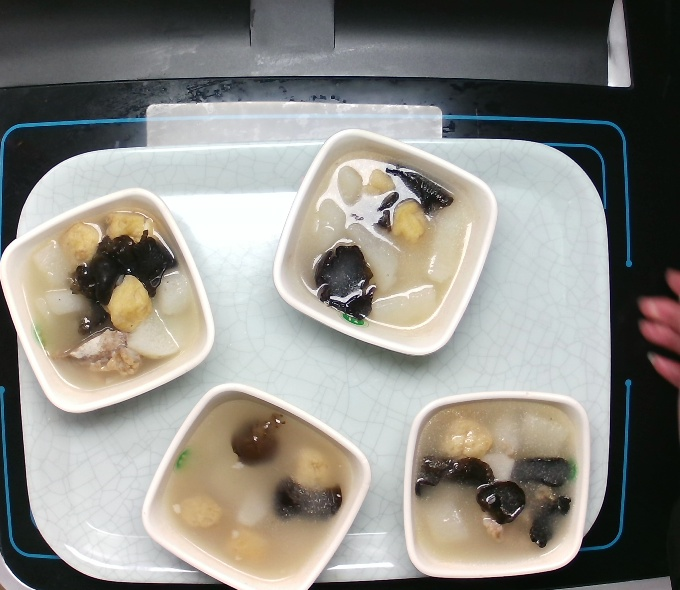wcq-ShanYaoTang: (158, 395, 361, 589), (17, 200, 207, 395), (292, 146, 480, 336), (408, 392, 587, 572)
